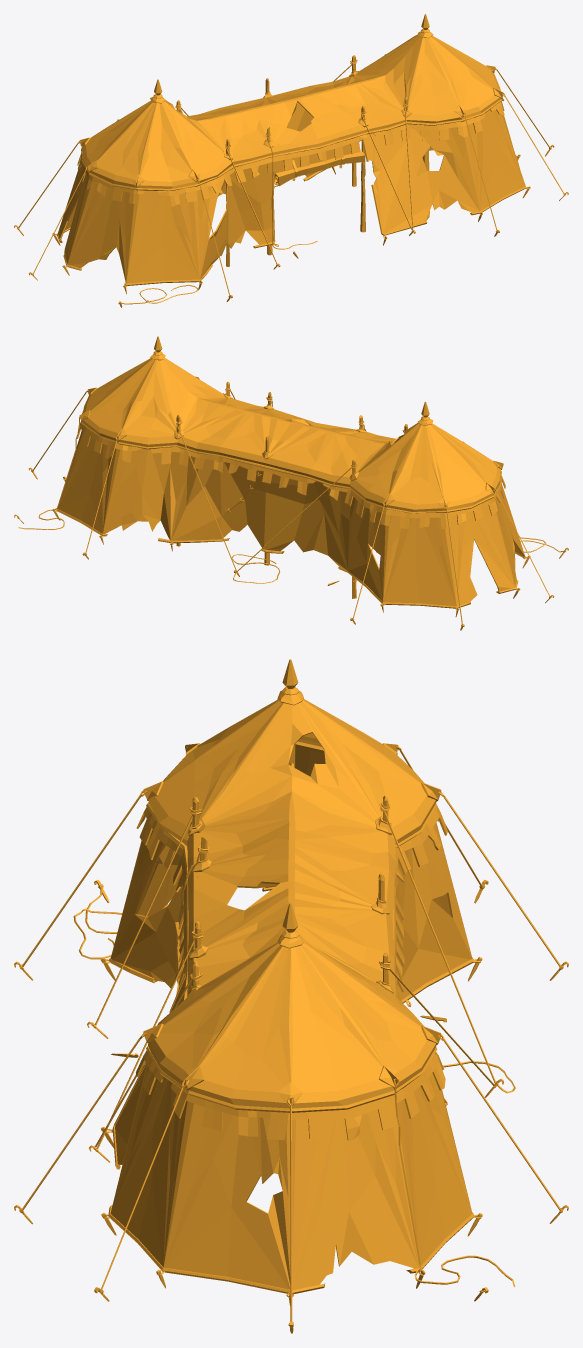
The model's file is SM_Tent_Noble_Striped_Damaged_Fantasy.fbx.
The picture shows the model from 3 angles, top to bottom: view 1: azimuth 30°, elevation 25°; view 2: azimuth 150°, elevation 25°; view 3: azimuth 270°, elevation 25°; orthographic projection. The views are drawn at different scales.
Visible parts, largest first — view 1: tent-noble-striped-damaged-fantasy; view 2: tent-noble-striped-damaged-fantasy; view 3: tent-noble-striped-damaged-fantasy.
Part boxes in pixels (x1,y1,x2,y2): tent-noble-striped-damaged-fantasy: [14, 14, 568, 307]; tent-noble-striped-damaged-fantasy: [14, 336, 568, 630]; tent-noble-striped-damaged-fantasy: [14, 659, 568, 1333].
Bounding box in the file's own units: 16.33 × 5.64 × 8.01.
